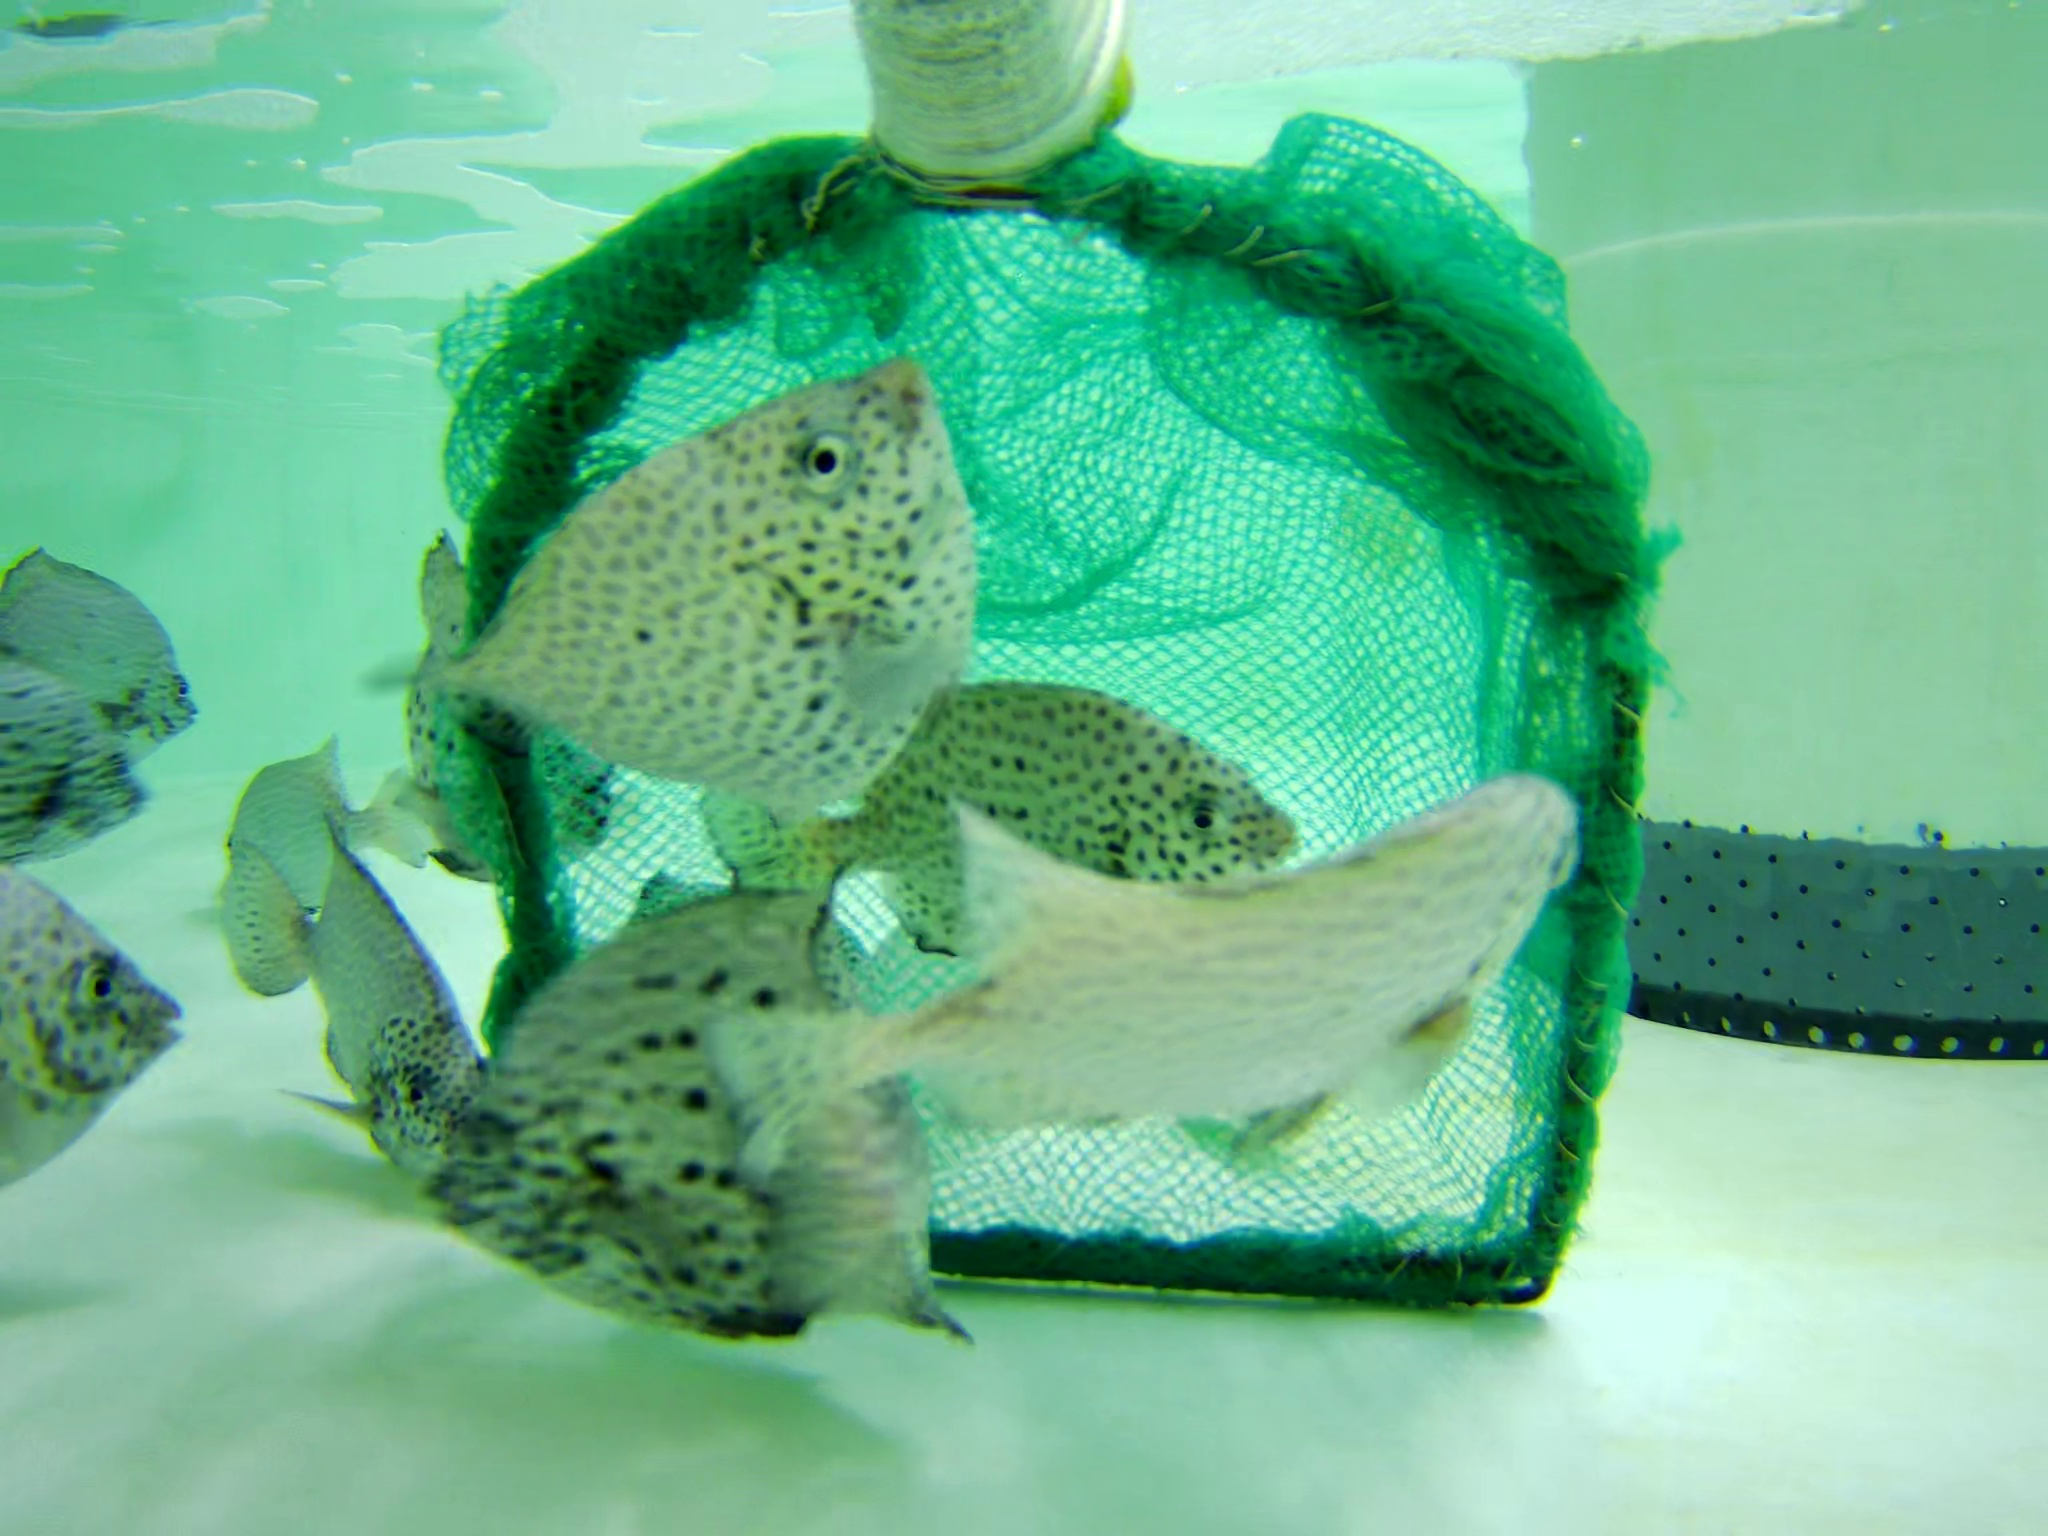fish: (722, 770, 1595, 1175), (419, 879, 953, 1379), (447, 352, 984, 824), (689, 671, 1284, 941), (229, 821, 484, 1208), (373, 526, 590, 876), (2, 845, 190, 1202), (2, 542, 218, 747), (2, 613, 150, 878), (218, 710, 448, 871)
